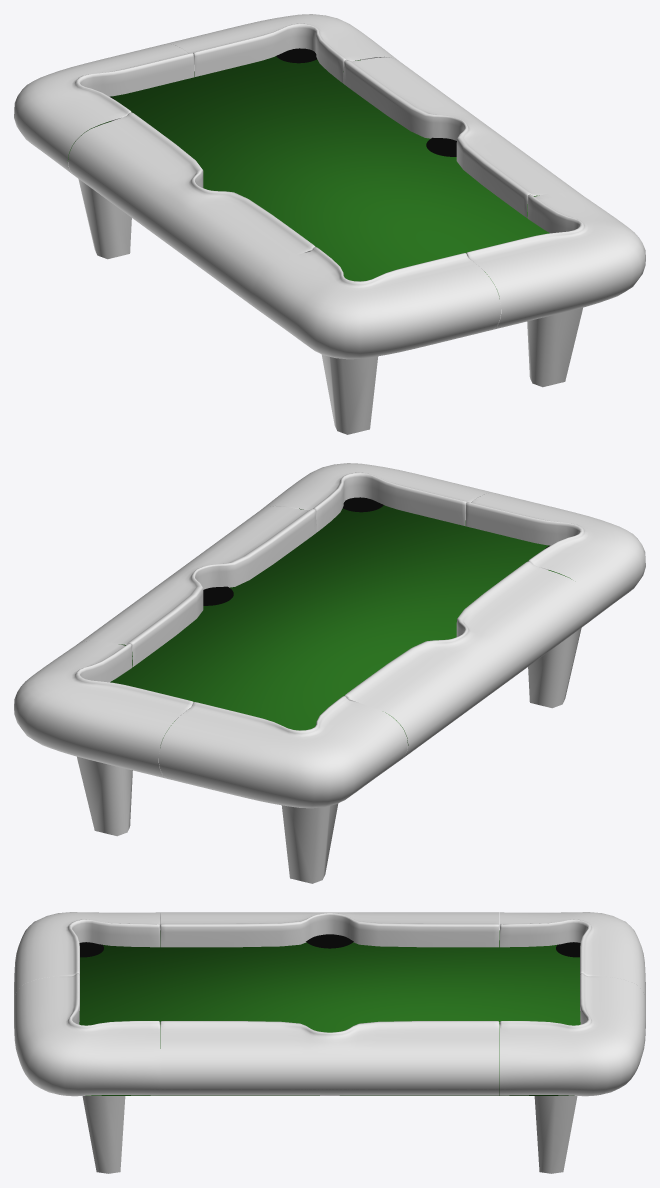
Rendered from PoolTable.glb.
The picture shows the model from 3 angles, top to bottom: view 1: azimuth 30°, elevation 25°; view 2: azimuth 150°, elevation 25°; view 3: azimuth 270°, elevation 25°; orthographic projection. The views are drawn at different scales.
Visible parts, largest first — view 1: PoolTable; view 2: PoolTable; view 3: PoolTable.
Part boxes in pixels (x1,y1,x2,y2): PoolTable: (14, 14, 645, 434); PoolTable: (14, 463, 645, 883); PoolTable: (14, 912, 645, 1173).
Size of the model in its own units: 3.81 by 1.74 by 6.64.
